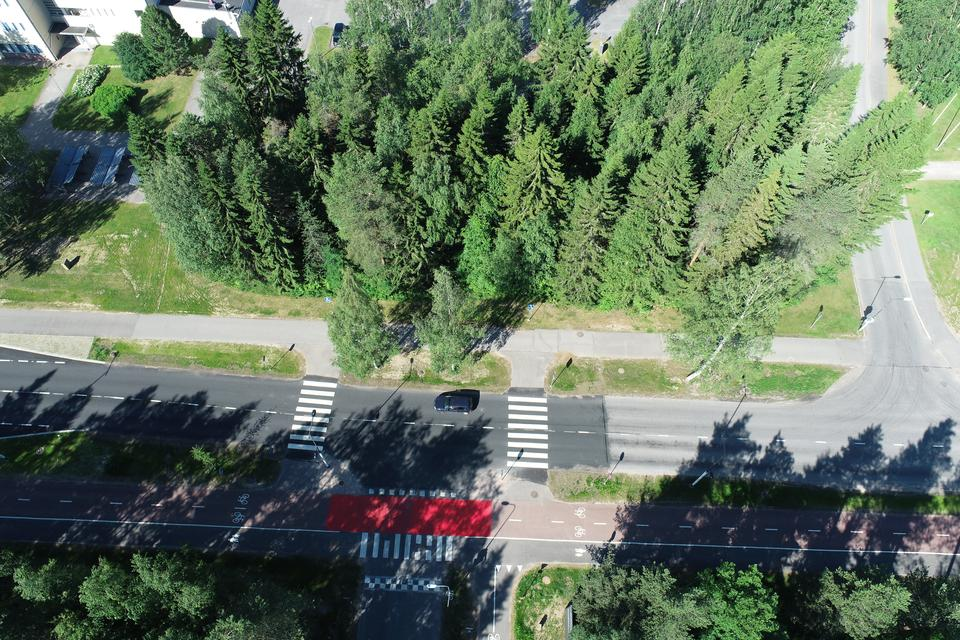intersection: (311, 512, 517, 610), (491, 346, 569, 502), (272, 332, 344, 495)
